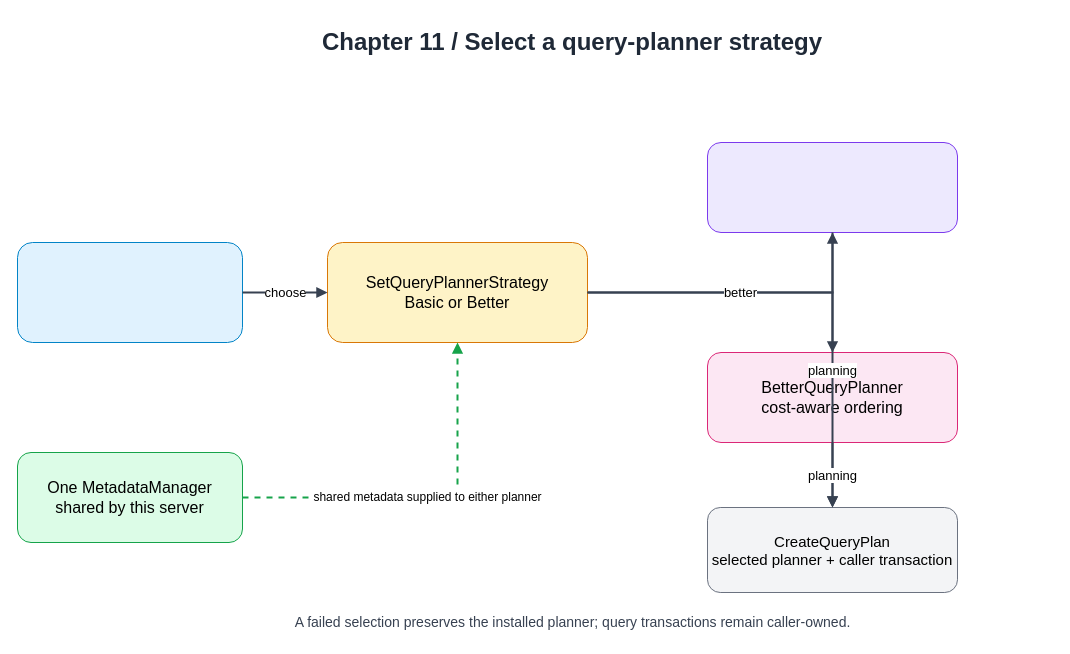
Image size: 1070x654. Some labels were removed from this diagram. Here are the shapes that lost their labels. From the top down, the centre of each, then its label:
At point (832, 187): "BasicQueryPlanner zero-value default".
At point (129, 292): "Managers NewManagers defaults to Basic".
